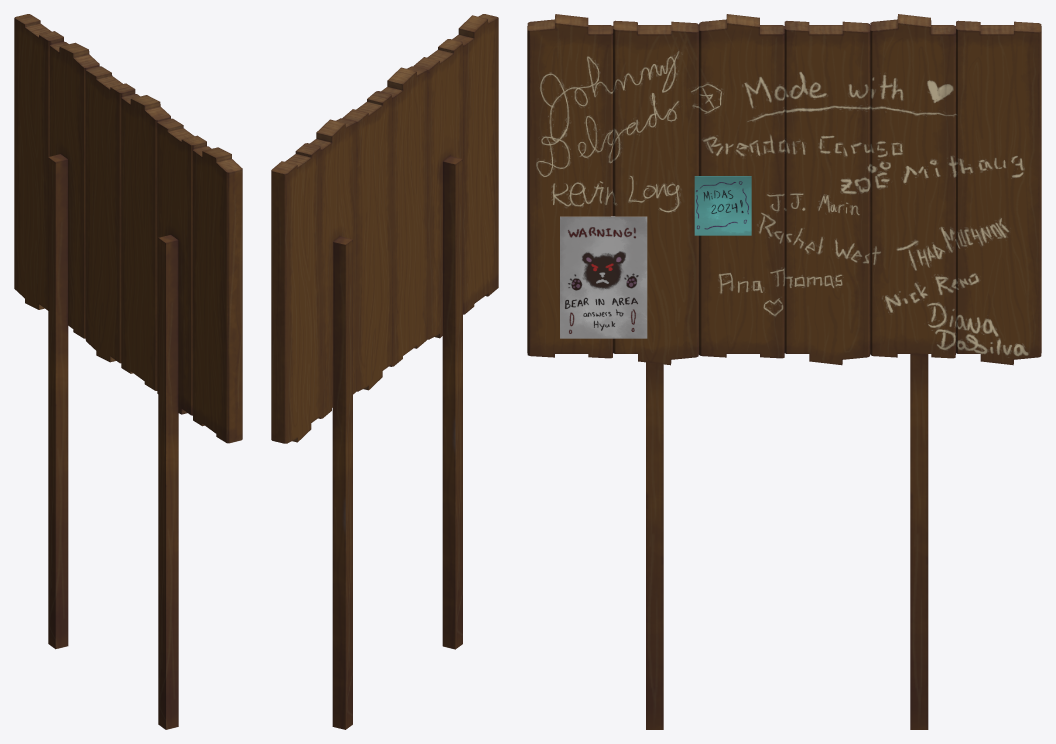
The model's file is credits_board.fbx.
The picture shows the model from 3 angles, left to right: view 1: azimuth 30°, elevation 25°; view 2: azimuth 150°, elevation 25°; view 3: azimuth 270°, elevation 25°; orthographic projection. The views are drawn at different scales.
Visible parts, largest first — view 1: sign_base, sign_leg_2, sign_leg_1; view 2: sign_base, sign_leg_1, sign_leg_2; view 3: sign_base, paper_big, sign_leg_1, sign_leg_2, paper_small.
Part boxes in pixels (x1=…): sign_base: x1=14, y1=14, x2=242, y2=443; sign_leg_2: x1=158, y1=235, x2=178, y2=729; sign_leg_1: x1=48, y1=154, x2=68, y2=649; sign_base: x1=271, y1=14, x2=498, y2=443; sign_leg_1: x1=332, y1=236, x2=352, y2=729; sign_leg_2: x1=442, y1=156, x2=462, y2=649; sign_base: x1=527, y1=14, x2=1041, y2=365; paper_big: x1=560, y1=216, x2=647, y2=338; sign_leg_1: x1=910, y1=354, x2=928, y2=729; sign_leg_2: x1=646, y1=362, x2=663, y2=729; paper_small: x1=694, y1=176, x2=751, y2=235.
Size of the model in its own units: 11.91 by 200 by 130.
1 material, 1 textured.
